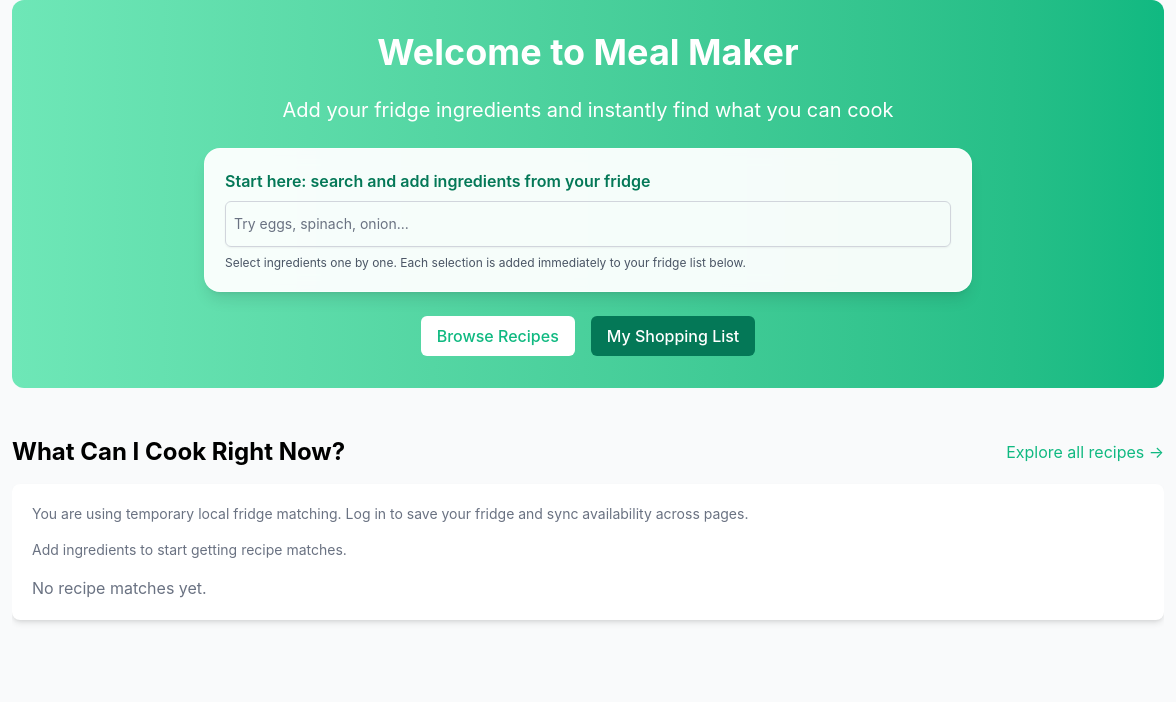
home ingredient matching workflow › adds a guest fridge ingredient and shows its recipe suggestion
Type "tom" into the field with placeholder "Try eggs, spinach, onion...".
click(588, 224); type("tom")  # box [225,201,951,247]
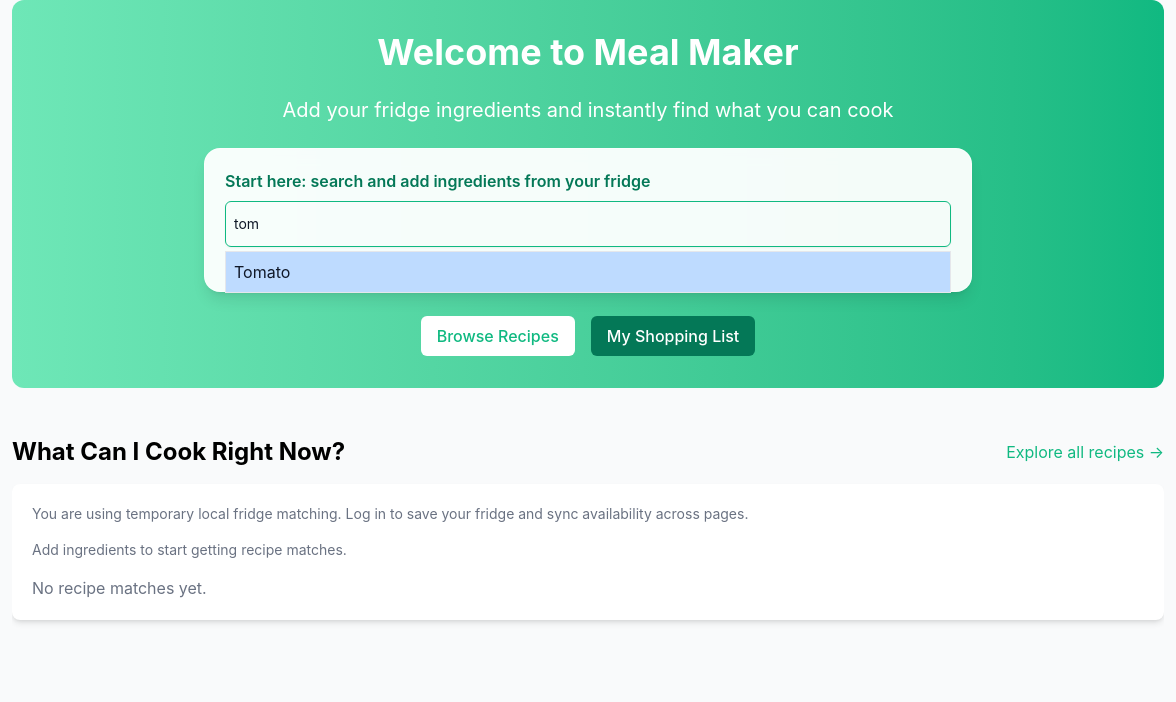
Click the list item "Tomato".
click(588, 272)  # box [226,252,950,292]
(page scrolled)
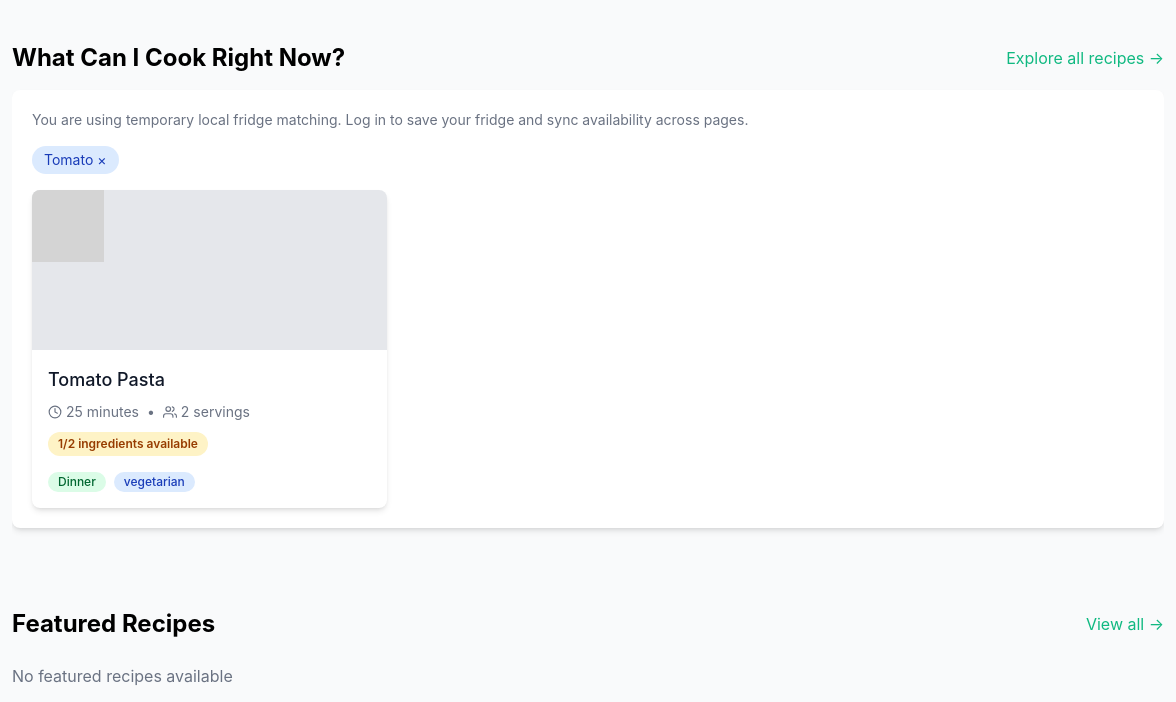
Expected: the button "Tomato ×" is shown, [32,146,118,174]
Expected: the heading "Tomato Pasta" is shown, [48,366,165,394]
Expected: the text "1/2 ingredients available" is shown, [48,432,208,456]
